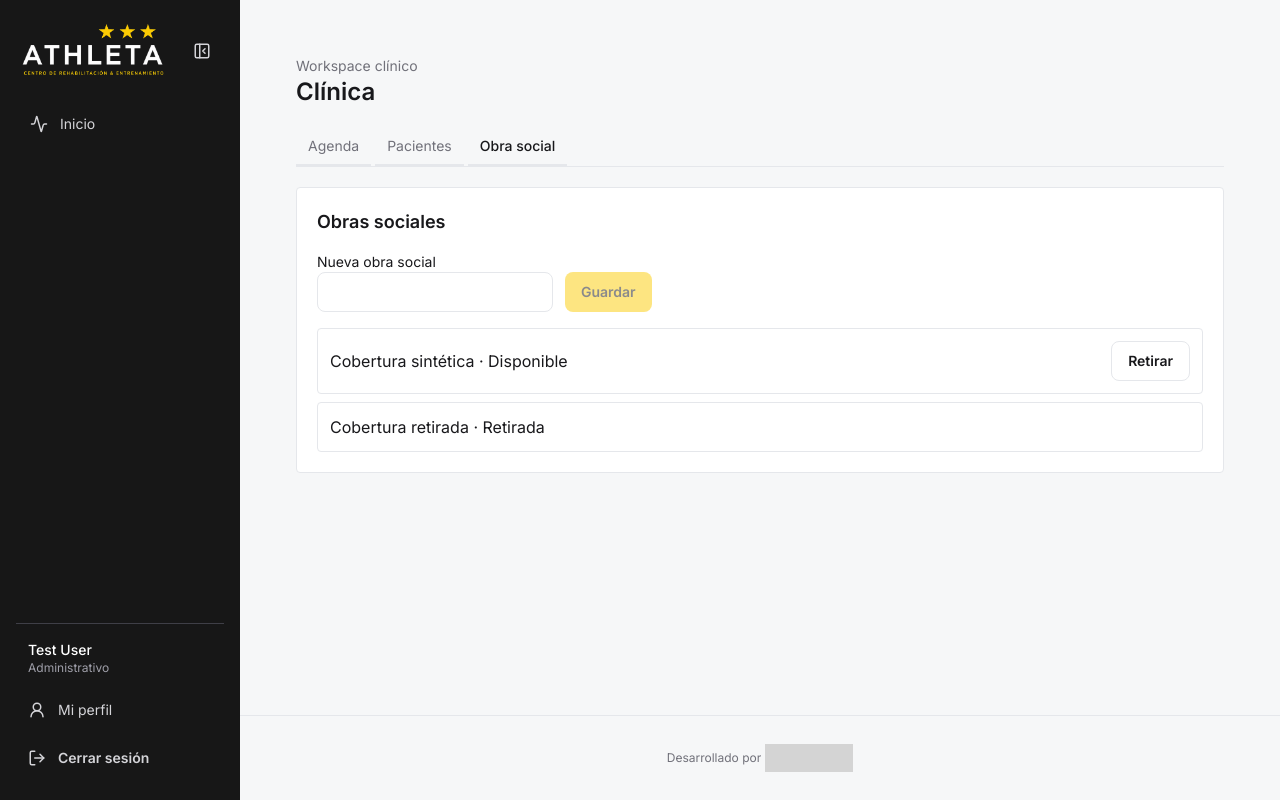
Scenario: lets Administrative open only the social-work exception and refreshes creation and retirement
Expected: the text "Cobertura sintética · Disponible" is shown, [330, 349, 568, 373]
Expected: the text "Cobertura retirada · Retirada" is shown, [330, 415, 545, 439]
Type "Nueva sintética" into the field named "Nombre de obra social". click: (435, 292)
box: [317, 272, 553, 312]
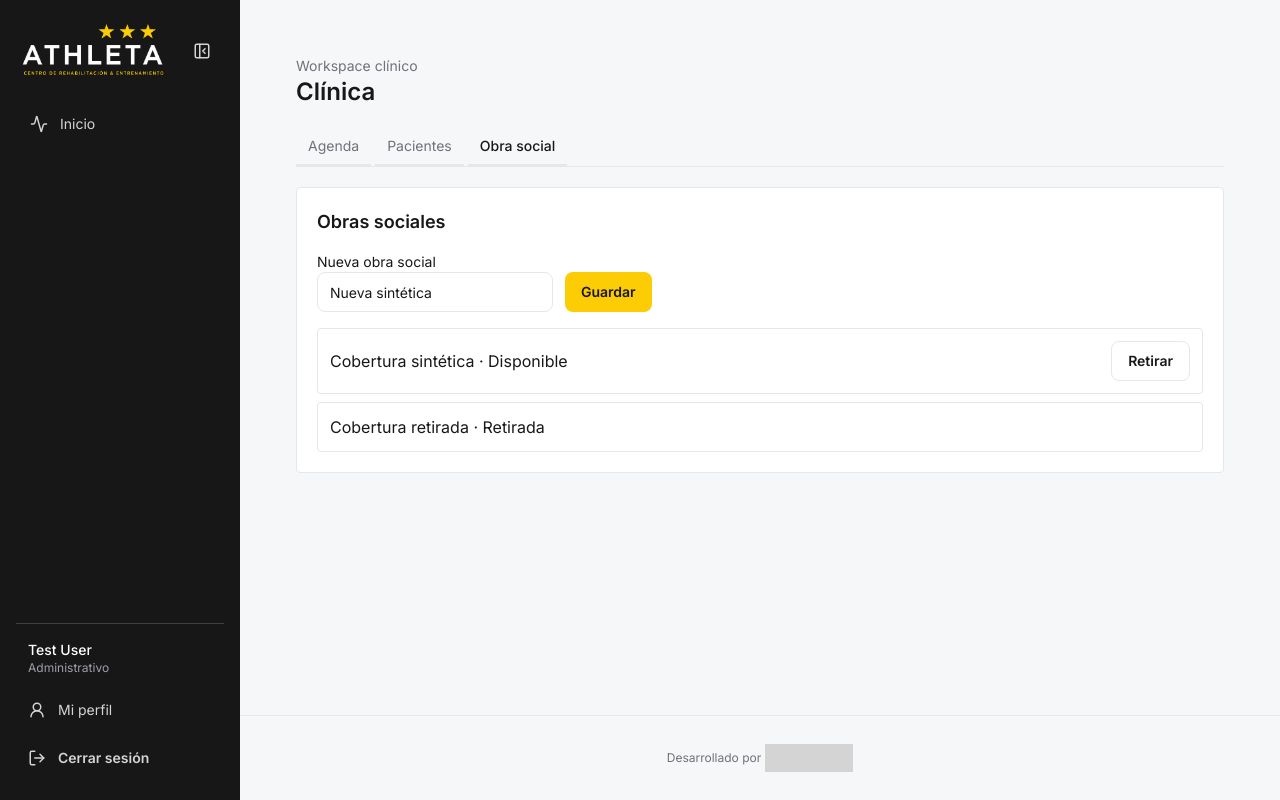
Click the button "Guardar". click: (608, 292)
box: [565, 272, 652, 312]
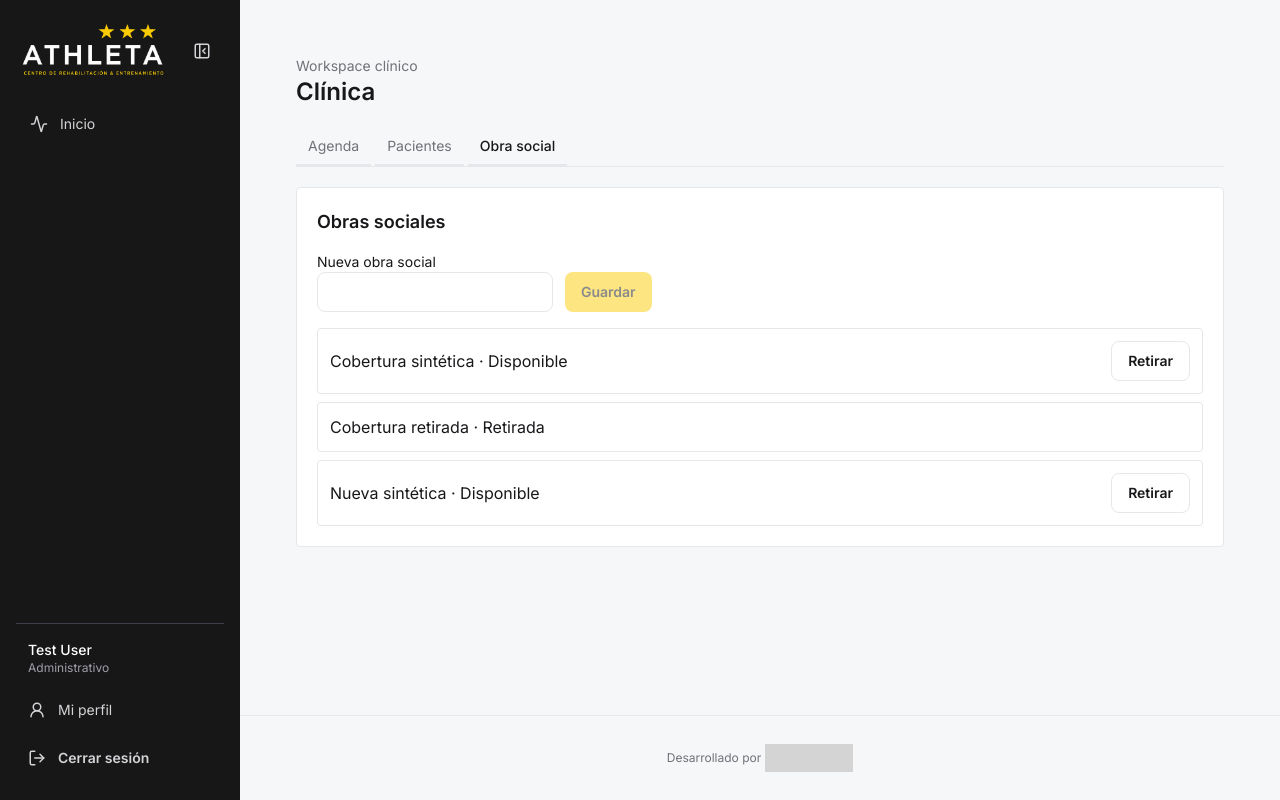
Expected: the text "Nueva sintética · Disponible" is shown, [330, 481, 540, 505]
Click the button "Retirar" in the row of "Cobertura sintética". click: (1151, 361)
box: [1111, 341, 1190, 381]
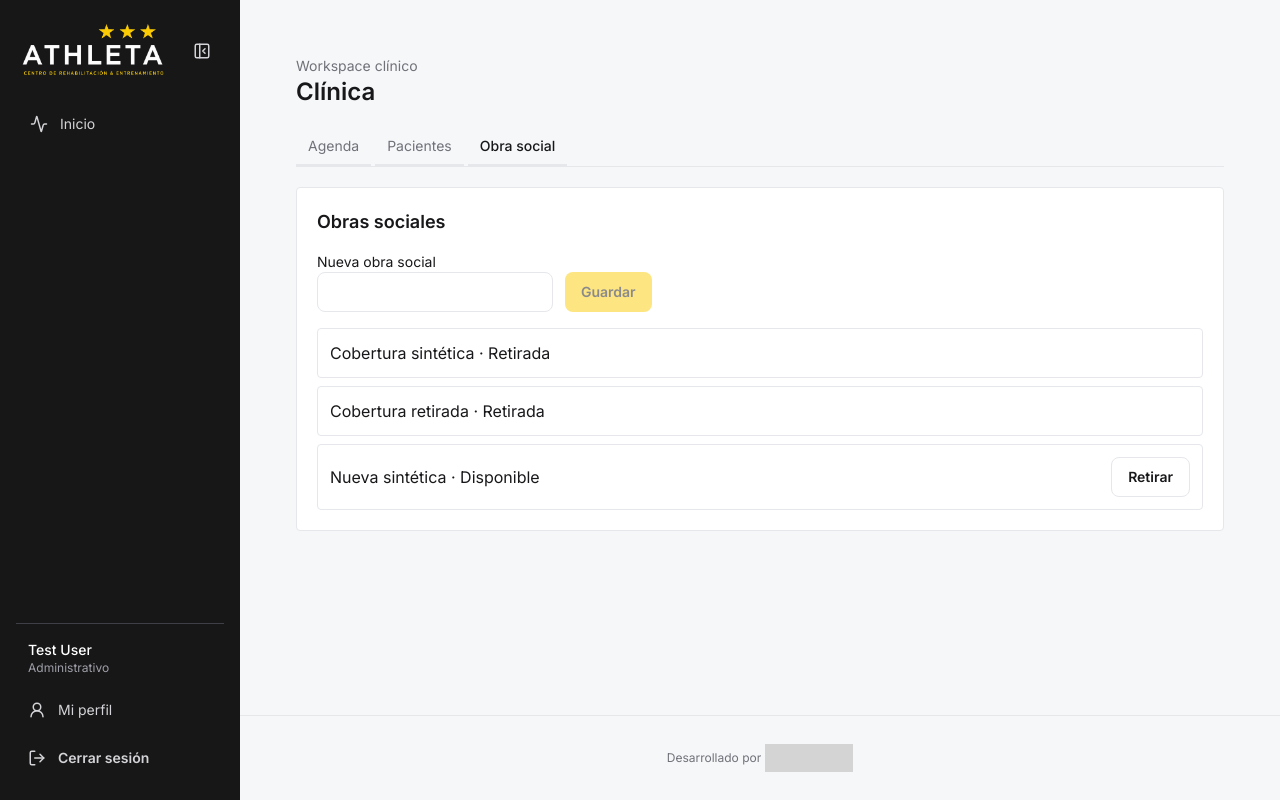
Expected: the text "Cobertura sintética · Retirada" is shown, [330, 341, 550, 365]
